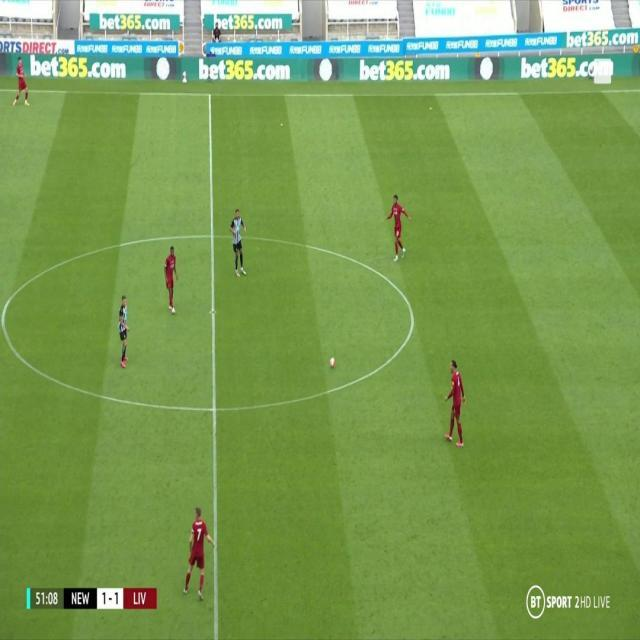ball: (329, 355, 337, 368)
player: (181, 505, 214, 603), (442, 358, 468, 450), (383, 194, 412, 263), (227, 207, 249, 278), (116, 291, 133, 368), (163, 244, 181, 315), (12, 53, 31, 111)
